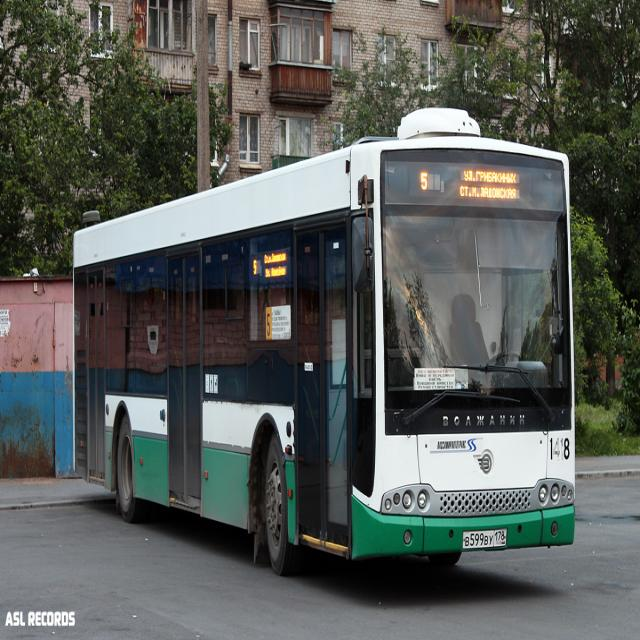number-of-bus: (418, 169, 432, 194), (253, 259, 260, 278), (267, 313, 272, 338)
